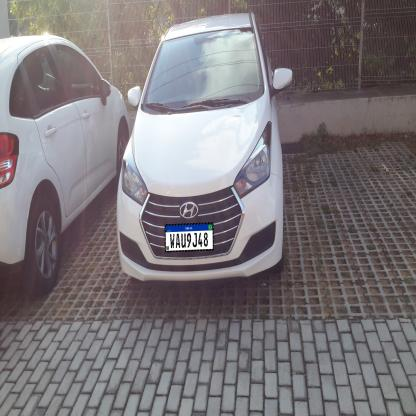PlacaM: (164, 223, 214, 252)
